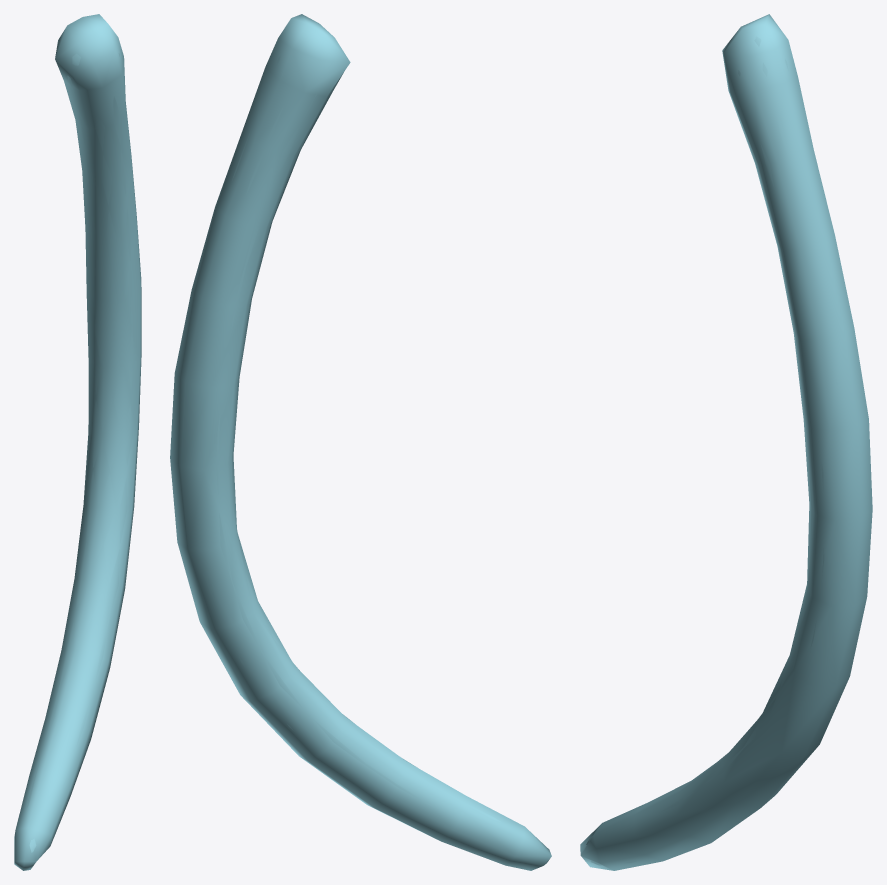
The picture shows the model from 3 angles, left to right: view 1: azimuth 30°, elevation 25°; view 2: azimuth 150°, elevation 25°; view 3: azimuth 270°, elevation 25°; orthographic projection. The views are drawn at different scales.
Visible parts, largest first — view 1: CC L13 low, CC L13; view 2: CC L13 low, CC L13; view 3: CC L13 low, CC L13.
Boxes of the visible parts, x1,y1,x2,y2 form: CC L13 low: [14, 14, 141, 870]; CC L13: [27, 53, 140, 852]; CC L13 low: [170, 14, 551, 870]; CC L13: [177, 55, 500, 821]; CC L13 low: [580, 14, 872, 870]; CC L13: [586, 36, 864, 865].
Bounding box in the file's own units: 1.42 × 4.56 × 1.31.
